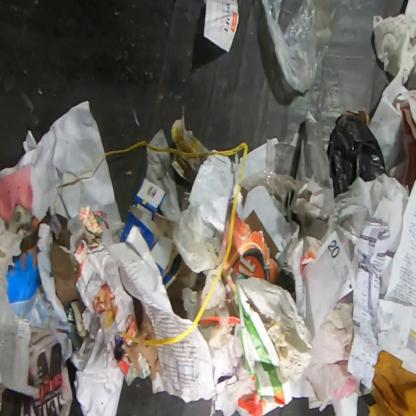cardboard: (118, 175, 186, 291), (227, 209, 283, 285), (367, 349, 415, 415), (372, 13, 415, 86)
soft_plastic: (261, 0, 338, 94), (327, 114, 388, 199), (258, 169, 278, 196)
